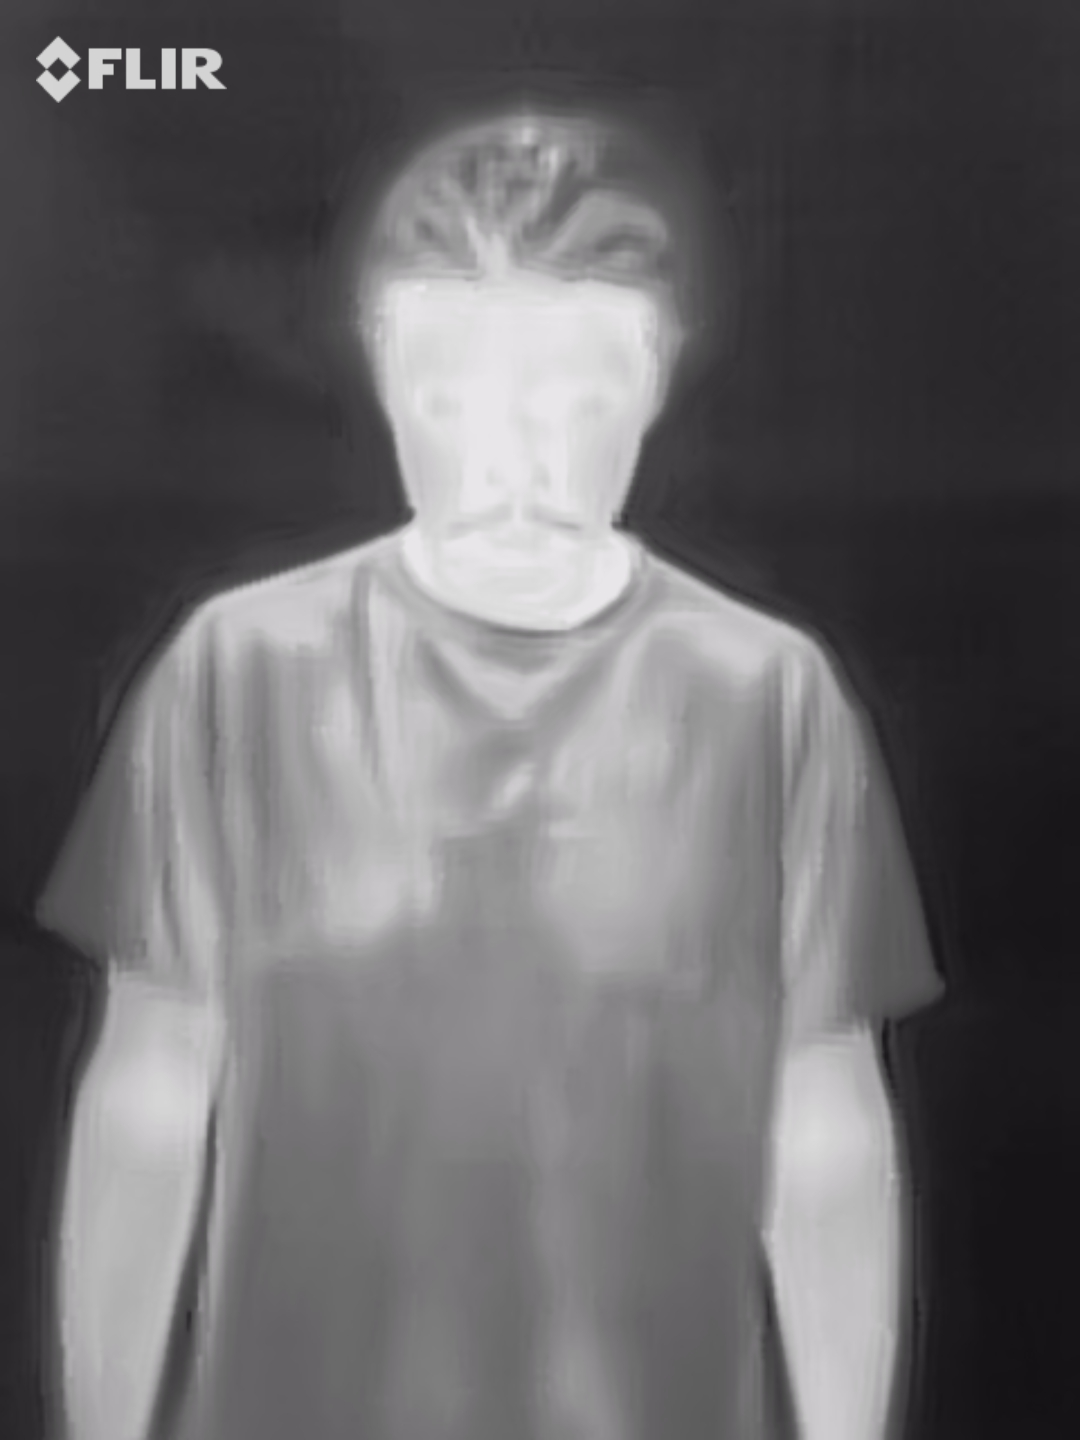head: (358, 112, 685, 590)
